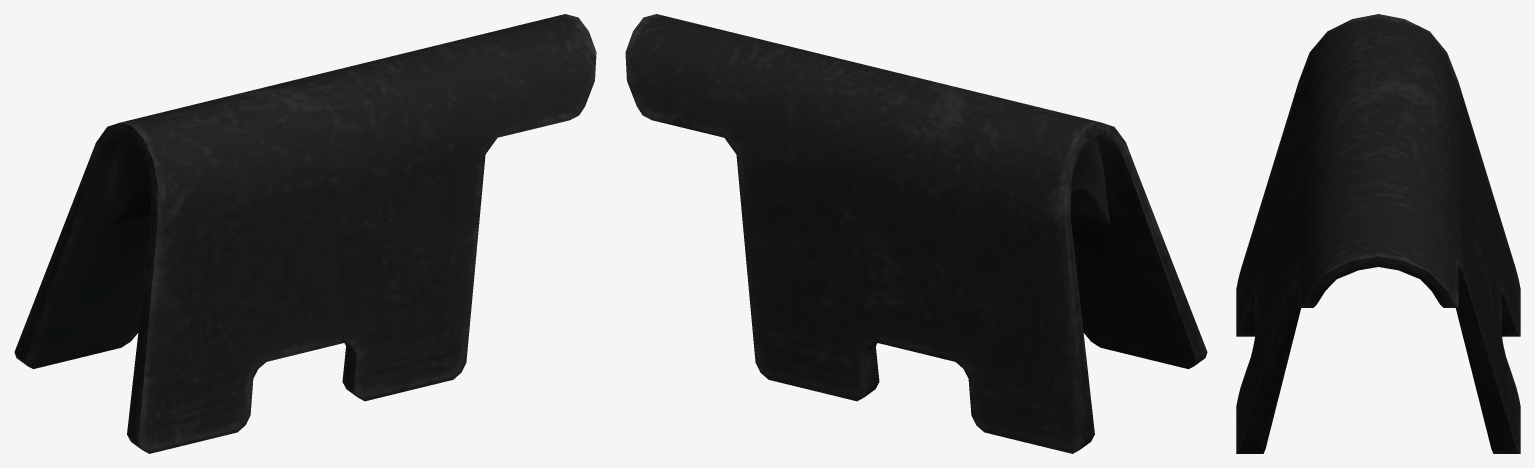
Rendered from ST_Stock_CheekPad_SKS.FBX.
The picture shows the model from 3 angles, left to right: view 1: azimuth 30°, elevation 25°; view 2: azimuth 150°, elevation 25°; view 3: azimuth 270°, elevation 25°; orthographic projection. The views are drawn at different scales.
Parts seen in each view (by area): view 1: ST_Stock_CheekPad_SKS; view 2: ST_Stock_CheekPad_SKS; view 3: ST_Stock_CheekPad_SKS.
Boxes of the visible parts, bbox=[...] form: ST_Stock_CheekPad_SKS: bbox=[14, 14, 596, 453]; ST_Stock_CheekPad_SKS: bbox=[625, 14, 1207, 453]; ST_Stock_CheekPad_SKS: bbox=[1236, 14, 1520, 453].
Size of the model in its own units: 12.53 by 6.43 by 5.51.
1 material, 1 textured.
